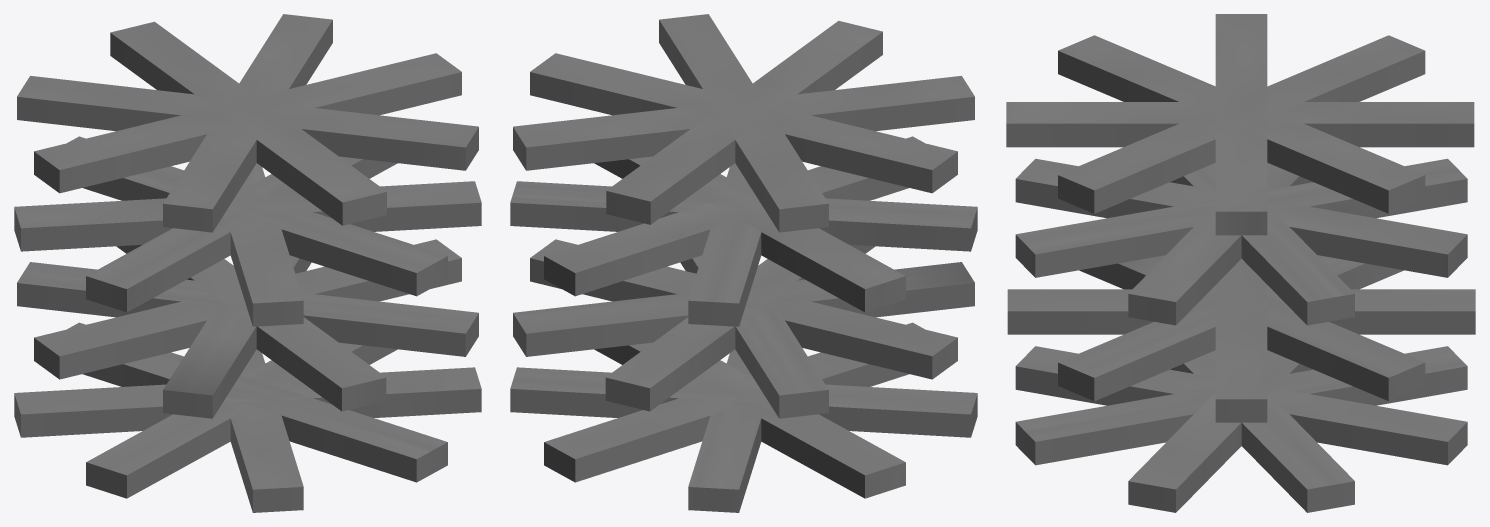
The model's file is turbine_middle.obj.
3 renders of one model, left to right at view 1: azimuth 30°, elevation 25°; view 2: azimuth 150°, elevation 25°; view 3: azimuth 270°, elevation 25°, orthographic.
Visible parts, largest first — view 1: cube; view 2: cube; view 3: cube.
Part boxes in pixels (box(x1,y1,x2,y2)): cube: box(14, 14, 481, 512); cube: box(510, 14, 977, 512); cube: box(1006, 14, 1475, 512).
Size of the model in its own units: 9.05 by 6.5 by 9.08.
